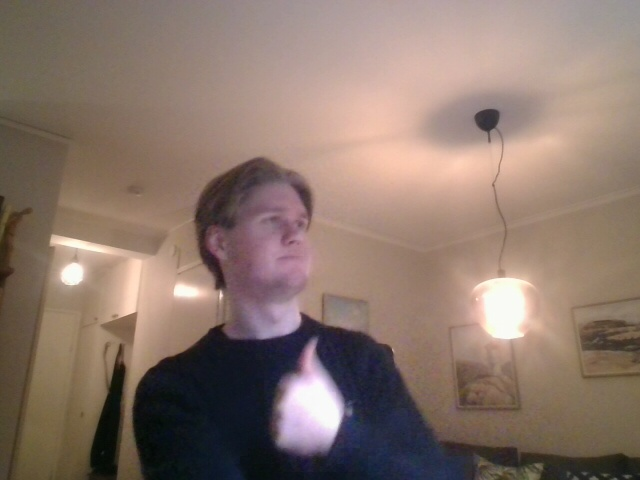ThumbsUp: (267, 336, 345, 462)
